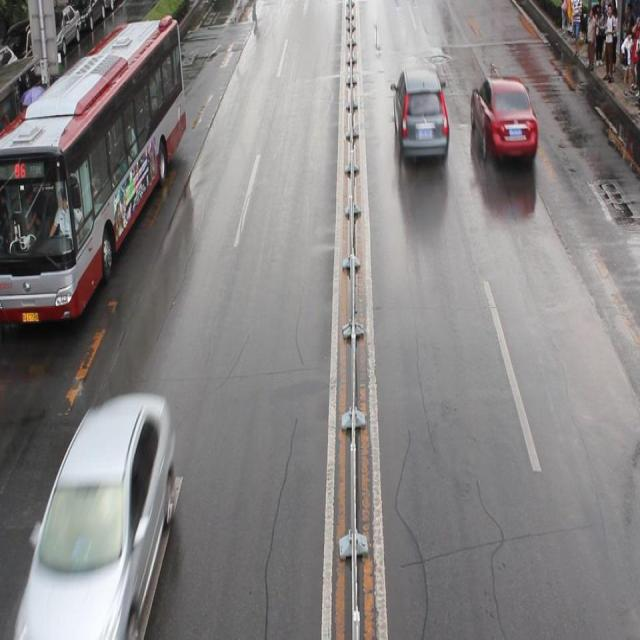car: (15, 393, 176, 640), (468, 77, 537, 159), (391, 70, 448, 160)
van: (1, 17, 186, 321)
